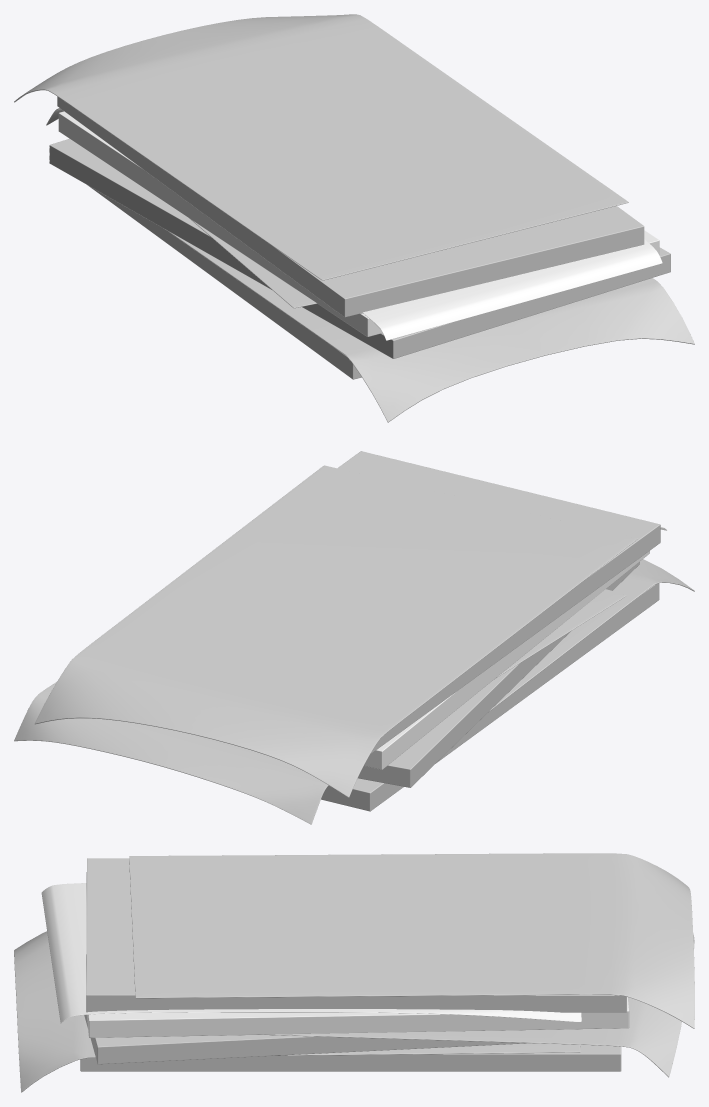
The model's file is Paper_Stack.fbx.
The picture shows the model from 3 angles, top to bottom: view 1: azimuth 30°, elevation 25°; view 2: azimuth 150°, elevation 25°; view 3: azimuth 270°, elevation 25°; orthographic projection. The views are drawn at different scales.
Parts seen in each view (by area): view 1: polySurface12, polySurface22, polySurface11, polySurface9, polySurface14, polySurface13, polySurface21, polySurface8; view 2: polySurface12, polySurface8, polySurface11, polySurface9, polySurface21, polySurface13, polySurface22; view 3: polySurface12, polySurface11, polySurface13, polySurface21, polySurface22, polySurface14, polySurface9, polySurface8.
Part boxes in pixels (<box>): polySurface12: <box>14,14,628,280</box>; polySurface22: <box>165,229,694,422</box>; polySurface11: <box>57,96,644,317</box>; polySurface9: <box>49,138,670,358</box>; polySurface14: <box>362,239,662,340</box>; polySurface13: <box>58,111,659,336</box>; polySurface21: <box>87,185,361,379</box>; polySurface8: <box>46,108,316,308</box>; polySurface12: <box>34,465,637,797</box>; polySurface8: <box>14,589,626,824</box>; polySurface11: <box>337,451,660,753</box>; polySurface9: <box>358,562,639,787</box>; polySurface21: <box>321,583,659,811</box>; polySurface13: <box>364,551,649,769</box>; polySurface22: <box>488,559,694,712</box>; polySurface12: <box>129,853,694,1028</box>; polySurface11: <box>86,858,626,1012</box>; polySurface13: <box>86,997,629,1037</box>; polySurface21: <box>80,1044,621,1071</box>; polySurface22: <box>14,931,580,1092</box>; polySurface14: <box>41,883,581,1023</box>; polySurface9: <box>84,1014,530,1064</box>; polySurface8: <box>264,934,694,1077</box>.
Size of the model in its own units: 34.48 by 9.14 by 60.65.
2 materials, 1 textured.
